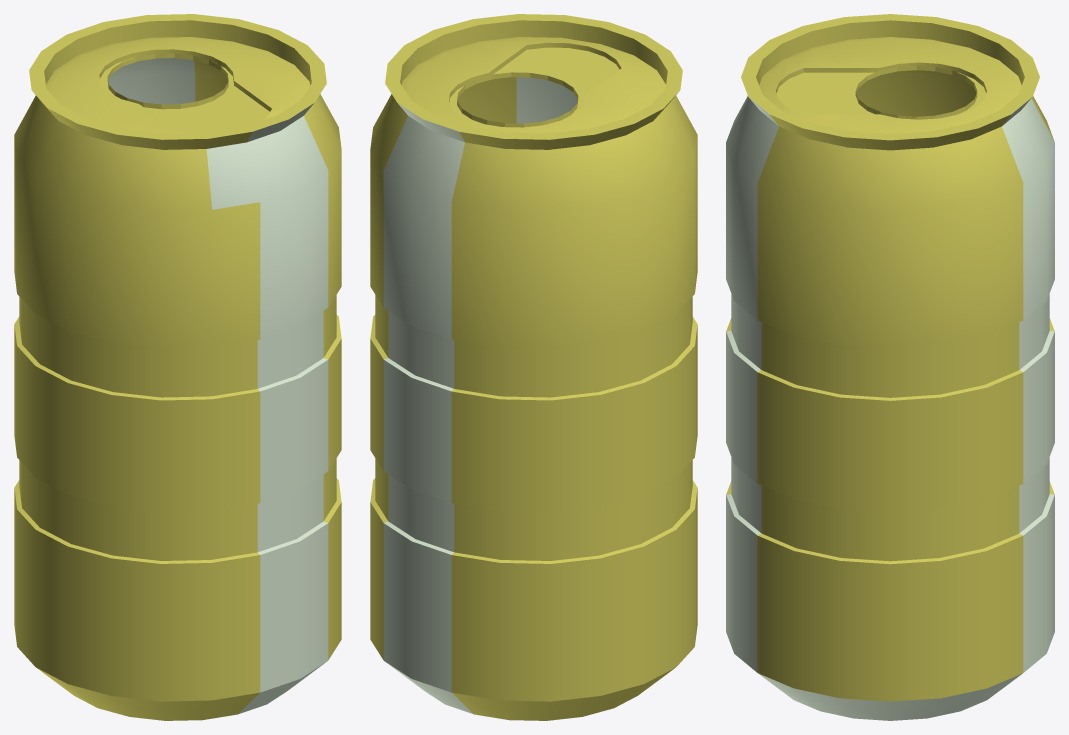
Rendered from Energydrinkv2.fbx.
The picture shows the model from 3 angles, left to right: view 1: azimuth 30°, elevation 25°; view 2: azimuth 150°, elevation 25°; view 3: azimuth 270°, elevation 25°; orthographic projection.
Parts seen in each view (by area): view 1: Cylinder.001; view 2: Cylinder.001; view 3: Cylinder.001.
Boxes of the visible parts, <box> form: Cylinder.001: <box>14,14,341,720</box>; Cylinder.001: <box>370,14,697,720</box>; Cylinder.001: <box>726,14,1054,720</box>.
Size of the model in its own units: 200 by 200 by 398.
